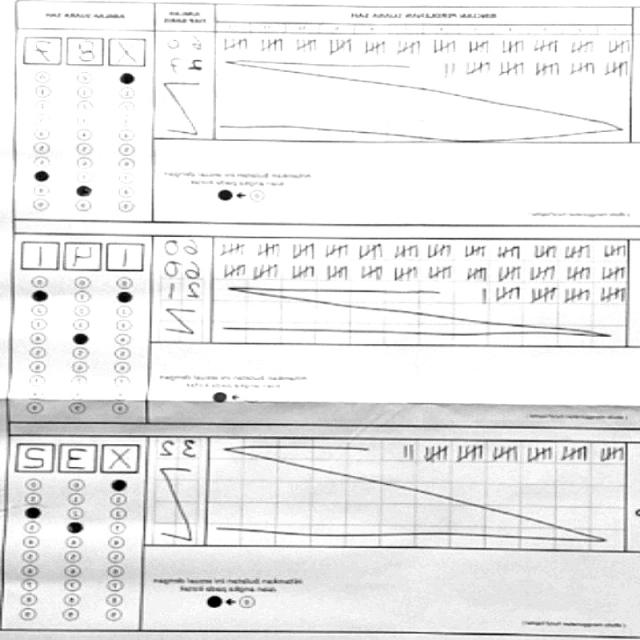Suara: (21, 30, 152, 70), (12, 439, 143, 478), (18, 237, 148, 276)
